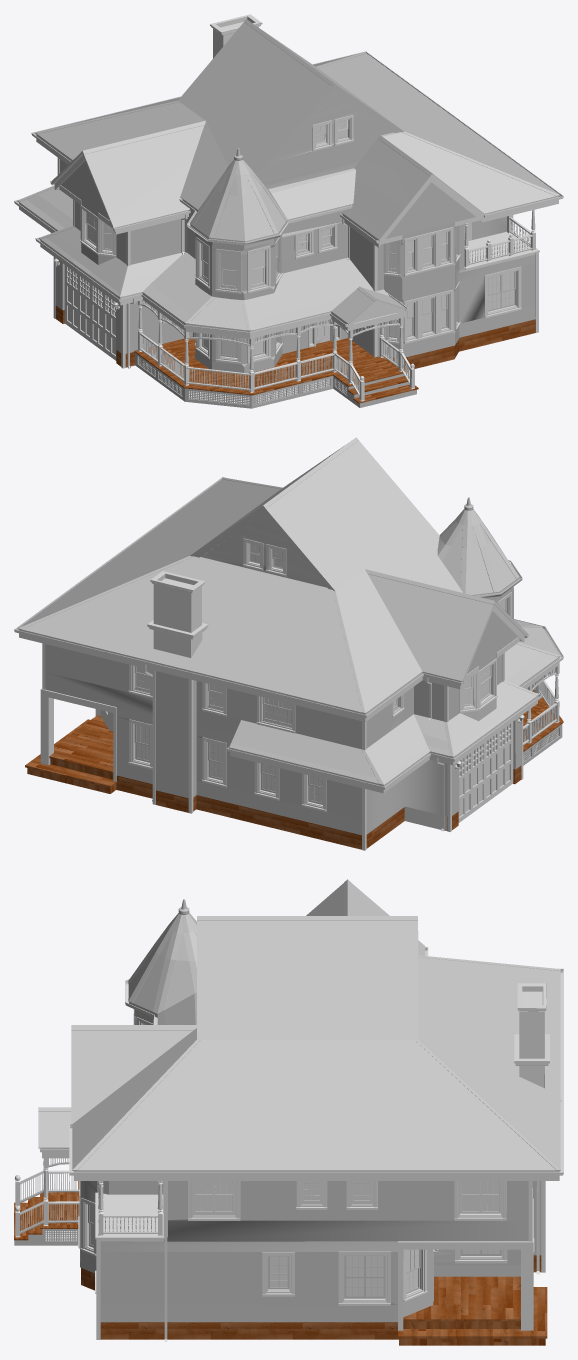
File: Home Mobile.fbx
3 renders of one model, top to bottom at view 1: azimuth 30°, elevation 25°; view 2: azimuth 150°, elevation 25°; view 3: azimuth 270°, elevation 25°, orthographic. The views are drawn at different scales.
Visible parts, largest first — view 1: UV_Roof, Outer Walls, Subsurfed_Porch, UVs_Porch Deck, Roof Edges, Subsurfed WIndows_Frames Ground, Outer Walls Top, Subsurfed_WIndows_Frames Ground.001, Lower Porch, UVs_Garage Door, Gutters 1st Floor, WIndows_Glass 1st (+9 smaller); view 2: UV_Roof, Outer Walls, Roof Edges, UVs_Lower Outer Wall, UVs_Deck_Back, UVs_Chimney, UVs_Garage Door, Outer Wall Corners, Outer Walls Top, Gutters 1st Floor, Subsurfed WIndows_Frames Ground, Subsurfed_WIndows_Frames Ground.001 (+11 smaller); view 3: UV_Roof, Outer Walls, UVs_Deck_Back, UVs_Lower Outer Wall, Roof Edges, Subsurfed_WIndows_Frames Ground.001, Subsurfed_Porch, Gutters 1st Floor, WIndows_Glass 1st, Outer Wall 02, WIndows_Glass Ground, UVs_Chimney (+7 smaller).
Boxes of the visible parts, <box> form: UV_Roof: <box>17,19,560,331</box>; Outer Walls: <box>55,159,535,373</box>; Subsurfed_Porch: <box>138,210,535,401</box>; UVs_Porch Deck: <box>134,337,418,403</box>; Roof Edges: <box>19,139,558,368</box>; Subsurfed WIndows_Frames Ground: <box>80,205,460,293</box>; Outer Walls Top: <box>259,91,393,188</box>; Subsurfed_WIndows_Frames Ground.001: <box>162,266,521,364</box>; Lower Porch: <box>135,352,416,408</box>; UVs_Garage Door: <box>64,265,116,360</box>; Gutters 1st Floor: <box>31,51,563,245</box>; WIndows_Glass 1st: <box>87,213,446,286</box>; UV_Roof: <box>18,437,560,785</box>; Outer Walls: <box>45,587,521,835</box>; Roof Edges: <box>19,578,559,831</box>; UVs_Lower Outer Wall: <box>116,766,521,849</box>; UVs_Deck_Back: <box>25,715,116,793</box>; UVs_Chimney: <box>147,571,208,657</box>; UVs_Garage Door: <box>458,722,513,822</box>; Outer Wall Corners: <box>42,643,523,850</box>; Outer Walls Top: <box>201,514,326,587</box>; Gutters 1st Floor: <box>14,477,529,717</box>; Subsurfed WIndows_Frames Ground: <box>128,592,511,733</box>; Subsurfed_WIndows_Frames Ground.001: <box>105,711,326,812</box>; UV_Roof: <box>38,879,560,1170</box>; Outer Walls: <box>80,1009,541,1322</box>; UVs_Deck_Back: <box>398,1276,547,1345</box>; UVs_Lower Outer Wall: <box>81,1255,541,1339</box>; Roof Edges: <box>42,1002,561,1341</box>; Subsurfed_WIndows_Frames Ground.001: <box>78,1181,534,1305</box>; Subsurfed_Porch: <box>15,1158,162,1237</box>; Gutters 1st Floor: <box>69,947,563,1175</box>; WIndows_Glass 1st: <box>195,1181,498,1211</box>; Outer Wall 02: <box>398,1198,533,1330</box>; WIndows_Glass Ground: <box>89,1205,499,1296</box>; UVs_Chimney: <box>514,983,549,1088</box>.
Size of the model in its own units: 1977 by 1311 by 2013.
